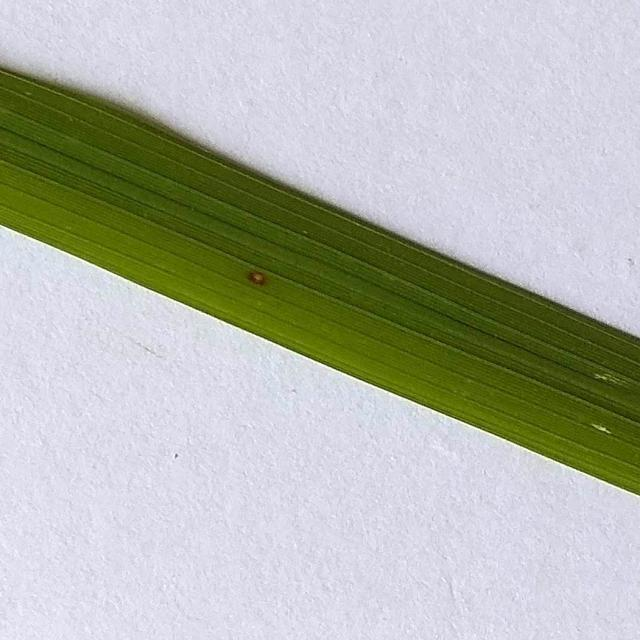Blast: (244, 270, 274, 286)
